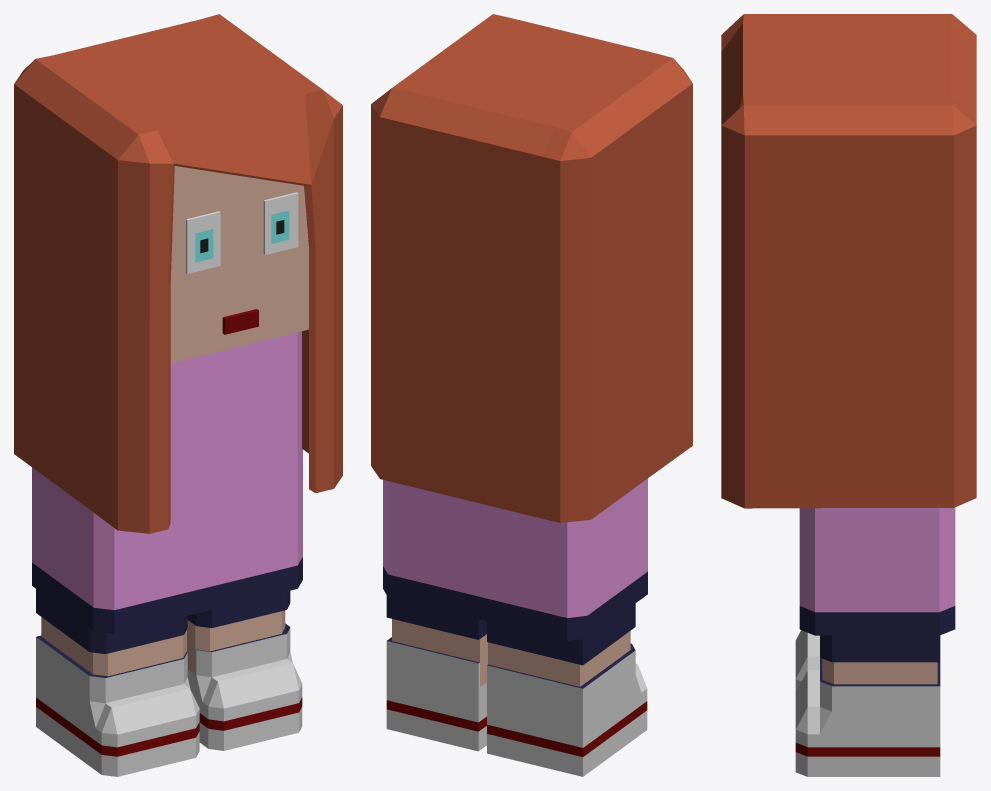
The model's file is polyPerp3.fbx.
The picture shows the model from 3 angles, left to right: view 1: azimuth 30°, elevation 25°; view 2: azimuth 150°, elevation 25°; view 3: azimuth 270°, elevation 25°; orthographic projection. The views are drawn at different scales.
Visible parts, largest first — view 1: polyLeg_Left; view 2: polyLeg_Left; view 3: polyLeg_Left.
Boxes of the visible parts, x1,y1,x2,y2 form: polyLeg_Left: (14,14,342,776); polyLeg_Left: (371,14,692,776); polyLeg_Left: (721,14,976,776).
Size of the model in its own units: 17.19 by 48.34 by 16.77.
